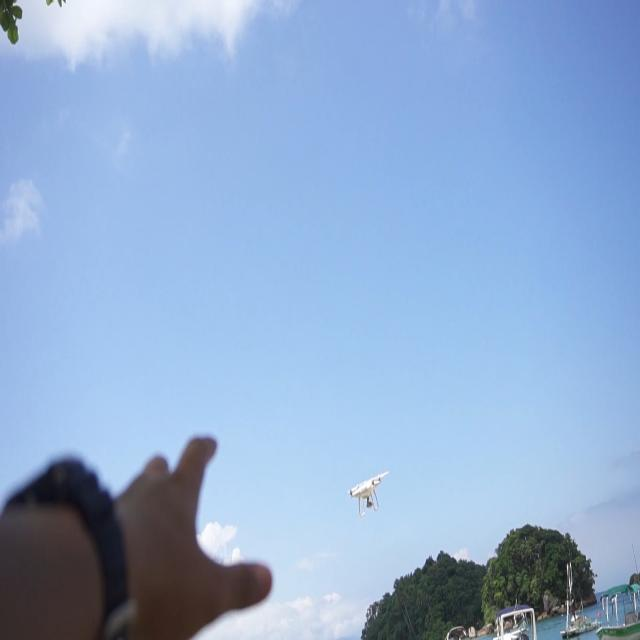Drone: (348, 472, 387, 516)
